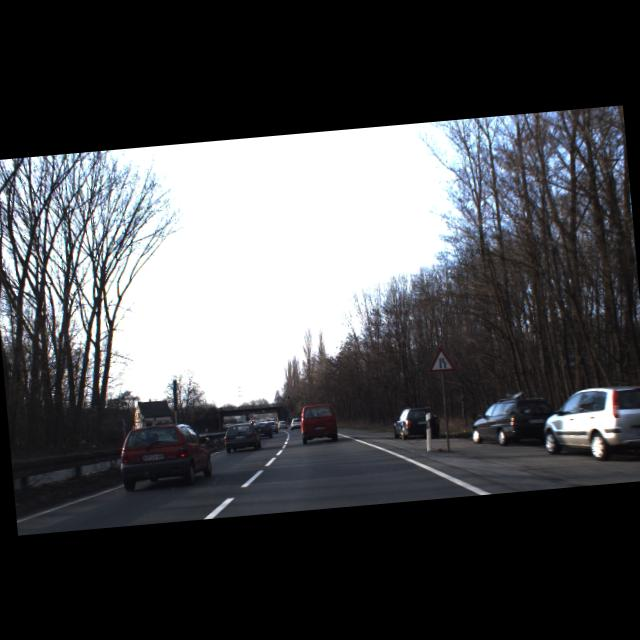danger: (426, 346, 456, 374)
